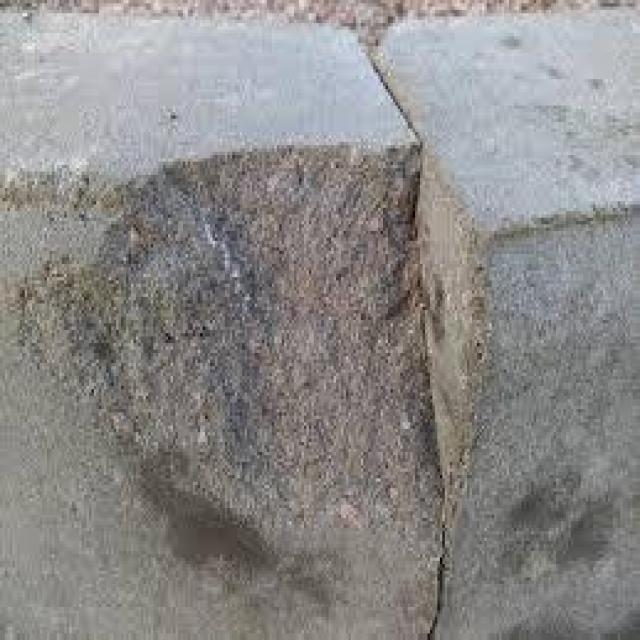curb: (5, 13, 446, 640), (369, 9, 635, 635)
